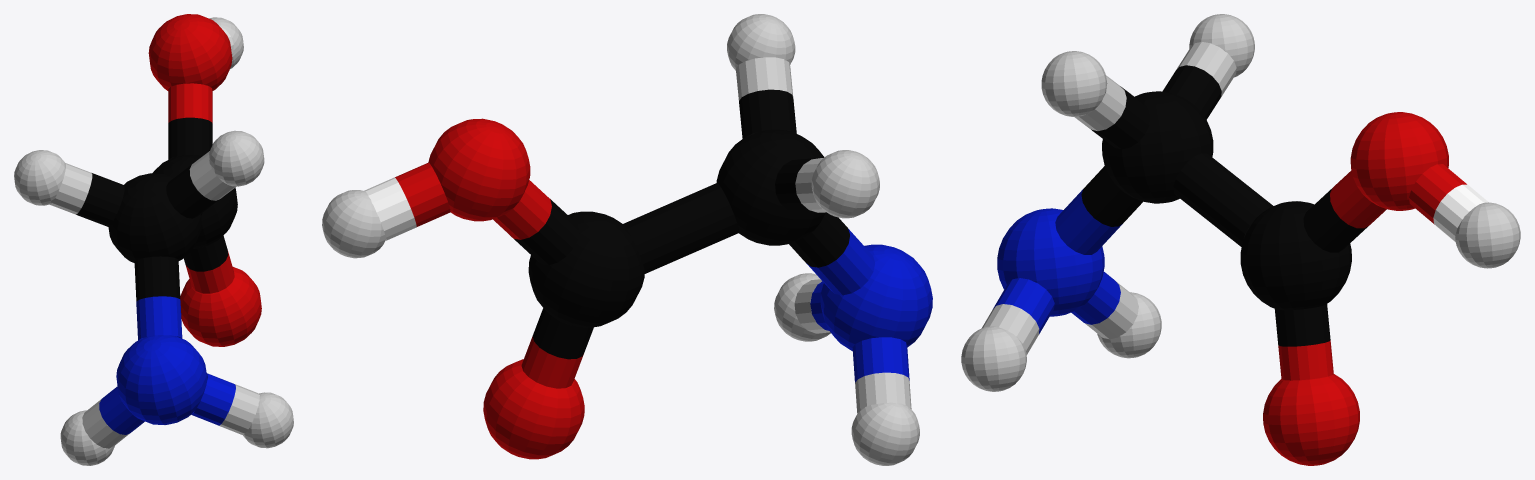
File: aminoacid.obj
3 views of the same model, side by side, from view 1: azimuth 30°, elevation 25°; view 2: azimuth 150°, elevation 25°; view 3: azimuth 270°, elevation 25° (orthographic). The views are drawn at different scales.
Parts seen in each view (by area): view 1: Shape_Sphere.002_Shape_Sphere.013, Shape_Sphere.003_Shape_Sphere.014, Shape_Sphere_Shape_Sphere.011, Shape_Sphere.001_Shape_Sphere.012, Shape_Sphere.005_Shape_Sphere.016, Shape_Sphere.006_Shape_Sphere.017, Shape_Sphere.004_Shape_Sphere.015, Shape_Sphere.007_Shape_Sphere.018, Shape_Cylinder.007_Shape_Cylinder.025, Shape_Cylinder.006_Shape_Cylinder.024, Shape_Cylinder.001_Shape_Cylinder.019, Shape_Cylinder.015_Shape_Cylinder.033 (+12 smaller); view 2: Shape_Sphere.004_Shape_Sphere.015, Shape_Sphere_Shape_Sphere.011, Shape_Sphere.003_Shape_Sphere.014, Shape_Sphere.002_Shape_Sphere.013, Shape_Sphere.001_Shape_Sphere.012, Shape_Cylinder.012_Shape_Cylinder.030, Shape_Sphere.006_Shape_Sphere.017, Shape_Sphere.008_Shape_Sphere.019, Shape_Sphere.009_Shape_Sphere, Shape_Sphere.005_Shape_Sphere.016, Shape_Cylinder.013_Shape_Cylinder.031, Shape_Cylinder.006_Shape_Cylinder.024 (+14 smaller); view 3: Shape_Sphere.004_Shape_Sphere.015, Shape_Sphere.003_Shape_Sphere.014, Shape_Sphere.001_Shape_Sphere.012, Shape_Sphere_Shape_Sphere.011, Shape_Sphere.002_Shape_Sphere.013, Shape_Cylinder.012_Shape_Cylinder.030, Shape_Sphere.005_Shape_Sphere.016, Shape_Sphere.007_Shape_Sphere.018, Shape_Sphere.009_Shape_Sphere, Shape_Sphere.006_Shape_Sphere.017, Shape_Cylinder.006_Shape_Cylinder.024, Shape_Cylinder.007_Shape_Cylinder.025 (+15 smaller).
Boxes of the visible parts, x1,y1,x2,y2 form: Shape_Sphere.002_Shape_Sphere.013: [116, 335, 207, 424]; Shape_Sphere.003_Shape_Sphere.014: [108, 173, 201, 262]; Shape_Sphere_Shape_Sphere.011: [148, 14, 232, 90]; Shape_Sphere.001_Shape_Sphere.012: [180, 267, 261, 346]; Shape_Sphere.005_Shape_Sphere.016: [209, 130, 264, 186]; Shape_Sphere.006_Shape_Sphere.017: [14, 150, 65, 205]; Shape_Sphere.004_Shape_Sphere.015: [152, 155, 237, 248]; Shape_Sphere.007_Shape_Sphere.018: [243, 392, 293, 448]; Shape_Cylinder.007_Shape_Cylinder.025: [134, 256, 180, 301]; Shape_Cylinder.006_Shape_Cylinder.024: [136, 296, 182, 340]; Shape_Cylinder.001_Shape_Cylinder.019: [168, 117, 212, 159]; Shape_Cylinder.015_Shape_Cylinder.033: [76, 173, 124, 226]; Shape_Sphere.004_Shape_Sphere.015: [528, 211, 644, 327]; Shape_Sphere_Shape_Sphere.011: [428, 118, 530, 221]; Shape_Sphere.003_Shape_Sphere.014: [716, 129, 825, 245]; Shape_Sphere.002_Shape_Sphere.013: [820, 244, 932, 350]; Shape_Sphere.001_Shape_Sphere.012: [483, 359, 584, 459]; Shape_Cylinder.012_Shape_Cylinder.030: [623, 183, 738, 273]; Shape_Sphere.006_Shape_Sphere.017: [811, 150, 879, 218]; Shape_Sphere.008_Shape_Sphere.019: [851, 402, 919, 465]; Shape_Sphere.009_Shape_Sphere: [322, 190, 386, 258]; Shape_Sphere.005_Shape_Sphere.016: [727, 14, 795, 70]; Shape_Cylinder.013_Shape_Cylinder.031: [739, 89, 796, 138]; Shape_Cylinder.006_Shape_Cylinder.024: [806, 228, 874, 295]; Shape_Sphere.004_Shape_Sphere.015: [1240, 201, 1351, 310]; Shape_Sphere.003_Shape_Sphere.014: [1102, 91, 1213, 203]; Shape_Sphere.001_Shape_Sphere.012: [1263, 374, 1359, 465]; Shape_Sphere_Shape_Sphere.011: [1350, 112, 1448, 210]; Shape_Sphere.002_Shape_Sphere.013: [997, 208, 1104, 316]; Shape_Cylinder.012_Shape_Cylinder.030: [1173, 153, 1273, 246]; Shape_Sphere.005_Shape_Sphere.016: [1041, 51, 1106, 116]; Shape_Sphere.007_Shape_Sphere.018: [961, 326, 1026, 391]; Shape_Sphere.009_Shape_Sphere: [1455, 202, 1520, 268]; Shape_Sphere.006_Shape_Sphere.017: [1189, 14, 1254, 77]; Shape_Cylinder.006_Shape_Cylinder.024: [1055, 189, 1122, 254]; Shape_Cylinder.007_Shape_Cylinder.025: [1081, 166, 1142, 226].
Size of the model in its own units: 0.429 by 0.3873 by 0.5266.
